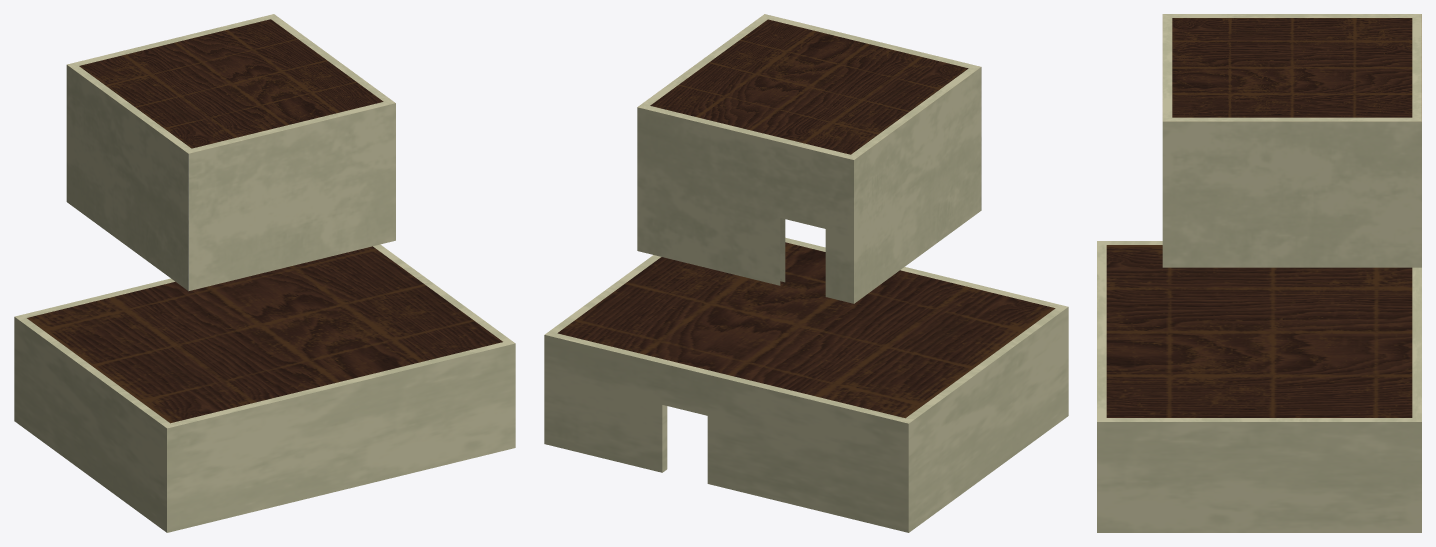
The model's file is lounge_cafeteria_new.fbx.
3 views of the same model, side by side, from view 1: azimuth 30°, elevation 25°; view 2: azimuth 150°, elevation 25°; view 3: azimuth 270°, elevation 25° (orthographic). The views are drawn at different scales.
Visible parts, largest first — view 1: Lounge/Cafeteria, roof_lounge/Cafeteria; view 2: Lounge/Cafeteria, roof_lounge/Cafeteria; view 3: Lounge/Cafeteria, roof_lounge/Cafeteria.
Boxes of the visible parts, left/top/right/bottom form: Lounge/Cafeteria: left=14, top=14, right=515, bottom=532; roof_lounge/Cafeteria: left=27, top=19, right=502, bottom=423; Lounge/Cafeteria: left=544, top=14, right=1068, bottom=532; roof_lounge/Cafeteria: left=557, top=19, right=1055, bottom=418; Lounge/Cafeteria: left=1097, top=14, right=1421, bottom=532; roof_lounge/Cafeteria: left=1106, top=18, right=1412, bottom=417.
Size of the model in its own units: 1289 by 1215 by 979.
Materials: 1 (1 with a texture image).
